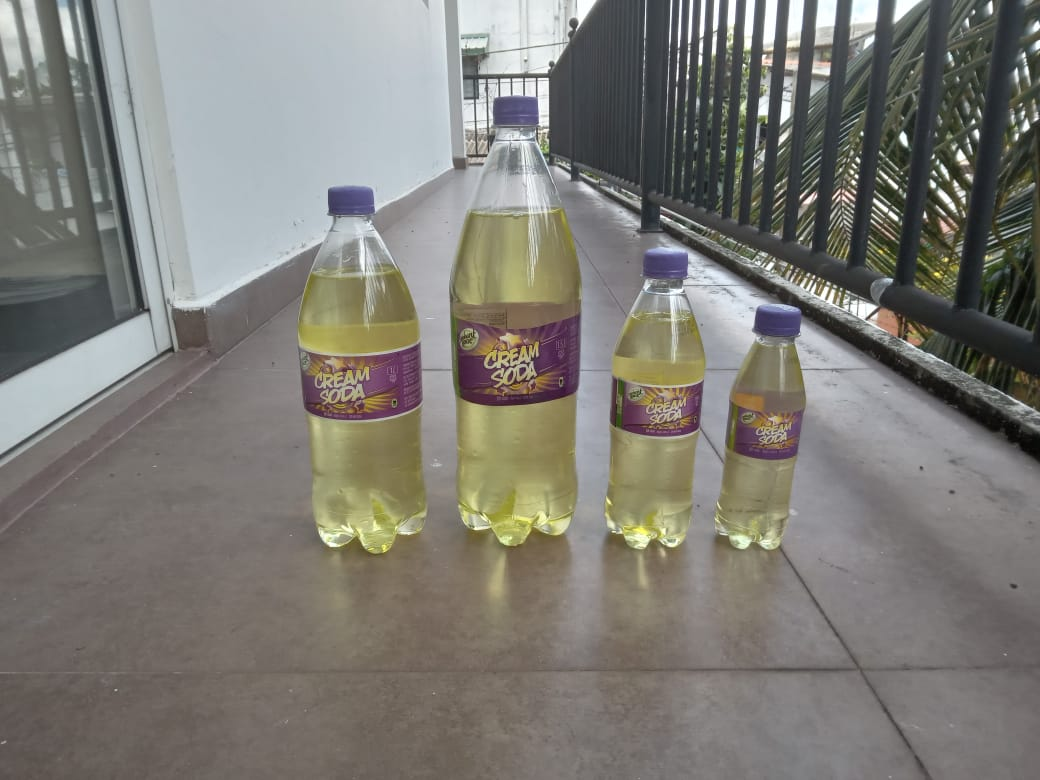L: (447, 98, 582, 547)
M: (297, 187, 429, 554)
S: (605, 253, 705, 547)
Xs: (716, 305, 803, 554)
